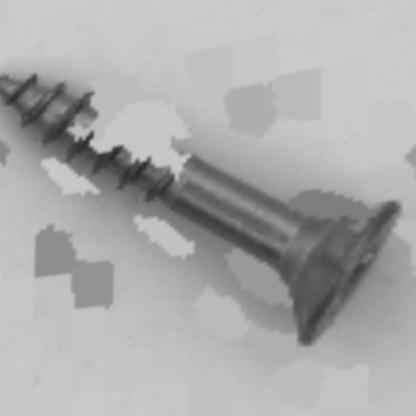metal: (0, 67, 402, 345)
